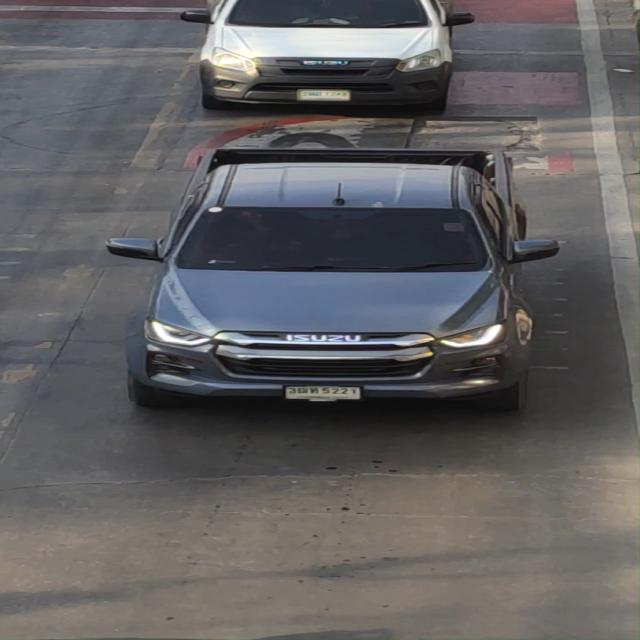car: (88, 125, 564, 417), (159, 0, 501, 129)
